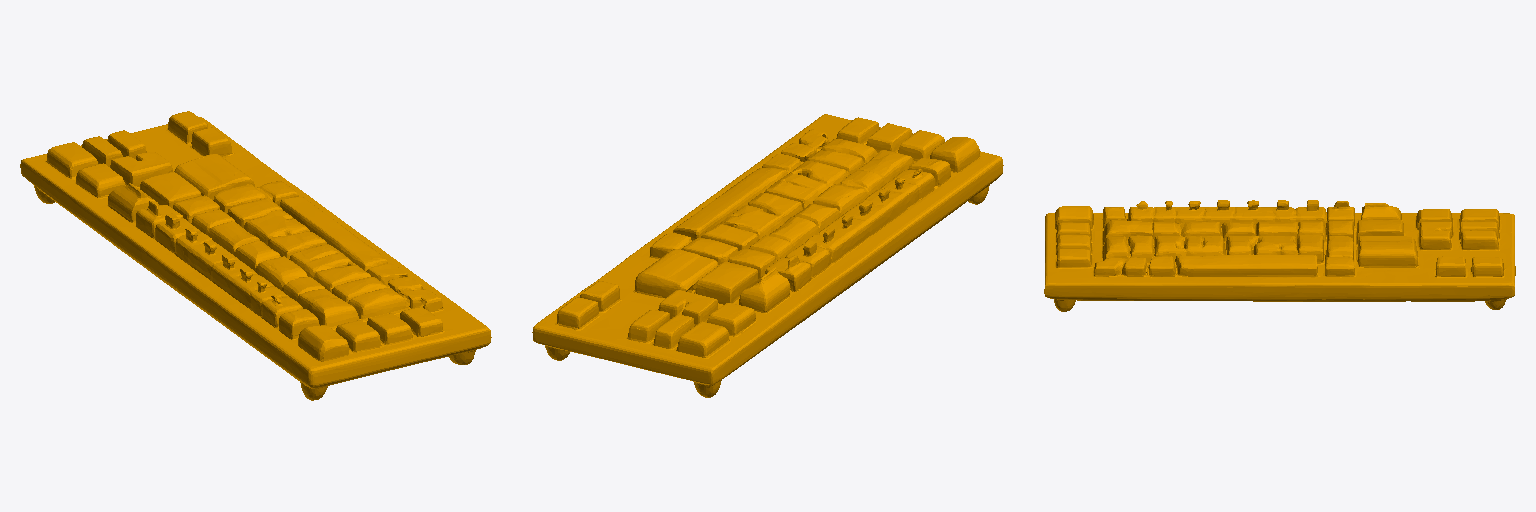
robot.urdf — sample:
<?xml version="1.0" ?>
<robot name="sample">
   <link name="sample">
      <visual>
         <origin xyz="0 0 0" rpy="1.5708 0.0 0.0"/>
         <geometry>
            <mesh filename="mesh/sample.obj" scale="1.0 1.0 1.0"/>
         </geometry>
      </visual>
      <collision>
         <origin xyz="0 0 0" rpy="1.5708 0.0 0.0"/>
         <geometry>
            <mesh filename="mesh/sample_collision.obj" scale="1.0 1.0 1.0"/>
         </geometry>
         <gazebo>
            <mu1>0.70</mu1>
            <mu2>0.50</mu2>
         </gazebo>
      </collision>
      <inertial>
         <mass value="1.2500"/>
         <origin xyz="0 0 0"/>
         <inertia ixx="1.0" ixy="0.0" ixz="0.0" iyy="1.0" iyz="0.0" izz="1.0"/>
      </inertial>
      <extra_info>
         <scale>0.383587</scale>
         <version>v0.1.7</version>
         <category>keyboard</category>
         <description>colorful mechanical keyboard with raised keys</description>
         <min_height>0.04</min_height>
         <max_height>0.06</max_height>
         <real_height>0.05</real_height>
         <min_mass>1.0</min_mass>
         <max_mass>1.5</max_mass>
         <color>black</color>
         <rgba>[0.1, 0.1, 0.1, 1.0]</rgba>
         <generate_time>20260605111618</generate_time>
         <gs_model>mesh/sample_gs.ply</gs_model>
      </extra_info>
   </link>
   <custom_data>
      <quality>
         <MeshGeoChecker>YES</MeshGeoChecker>
         <ImageSegChecker>YES</ImageSegChecker>
         <ImageAestheticChecker>4.6024720668792725</ImageAestheticChecker>
         <overall>YES</overall>
      </quality>
   </custom_data>
</robot>

--- What the picture shows (computed from the rendered views, not written in the file) ---
3 views of the same robot in one strip: view 1: azimuth 30°, elevation 25°; view 2: azimuth 150°, elevation 25°; view 3: azimuth 270°, elevation 25° (orthographic).
Robot: sample — 1 links, 0 joints (none); root link sample; default pose: every joint at zero.
Links seen in each view (by area): view 1: sample; view 2: sample; view 3: sample.
Boxes of the visible links, x1,y1,x2,y2 form: sample: (20, 111, 491, 400); sample: (532, 114, 1003, 397); sample: (1044, 200, 1515, 311).
Bounding box of the posed robot: 0.1386 × 0.3836 × 0.05 m (x, y, z).
1 mesh visuals loaded from 1 distinct referenced files (1 OBJ).
